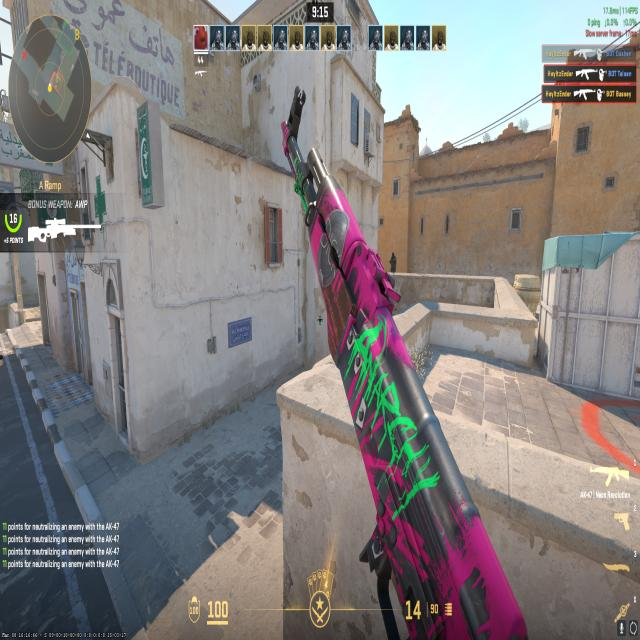ct: (388, 246, 400, 276)
